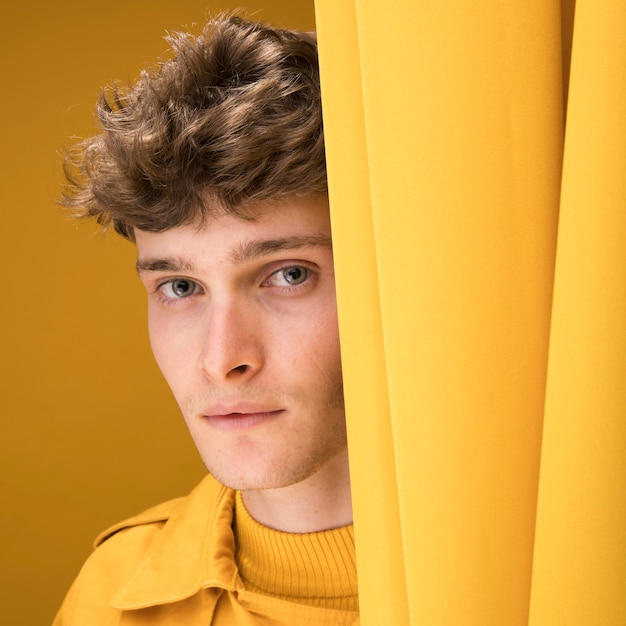teen: (74, 32, 355, 491)
